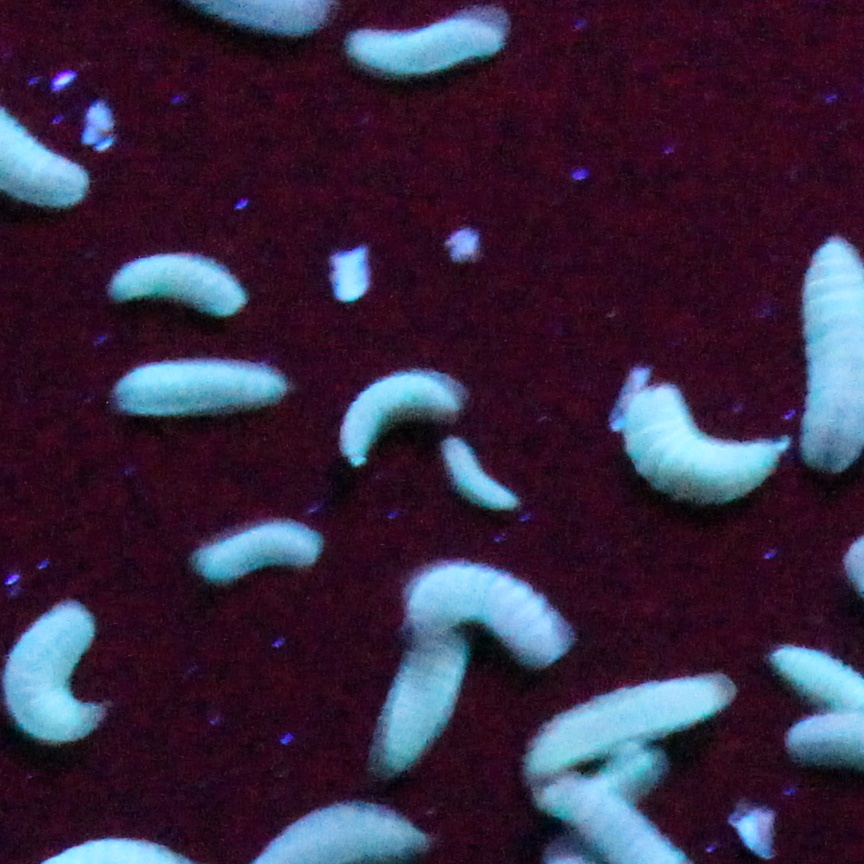larve: (527, 679, 732, 772), (623, 388, 775, 507), (398, 559, 568, 660), (108, 351, 281, 418), (341, 11, 507, 74), (373, 651, 460, 769), (180, 515, 319, 580), (341, 373, 449, 448), (108, 255, 241, 311), (446, 437, 515, 515)
